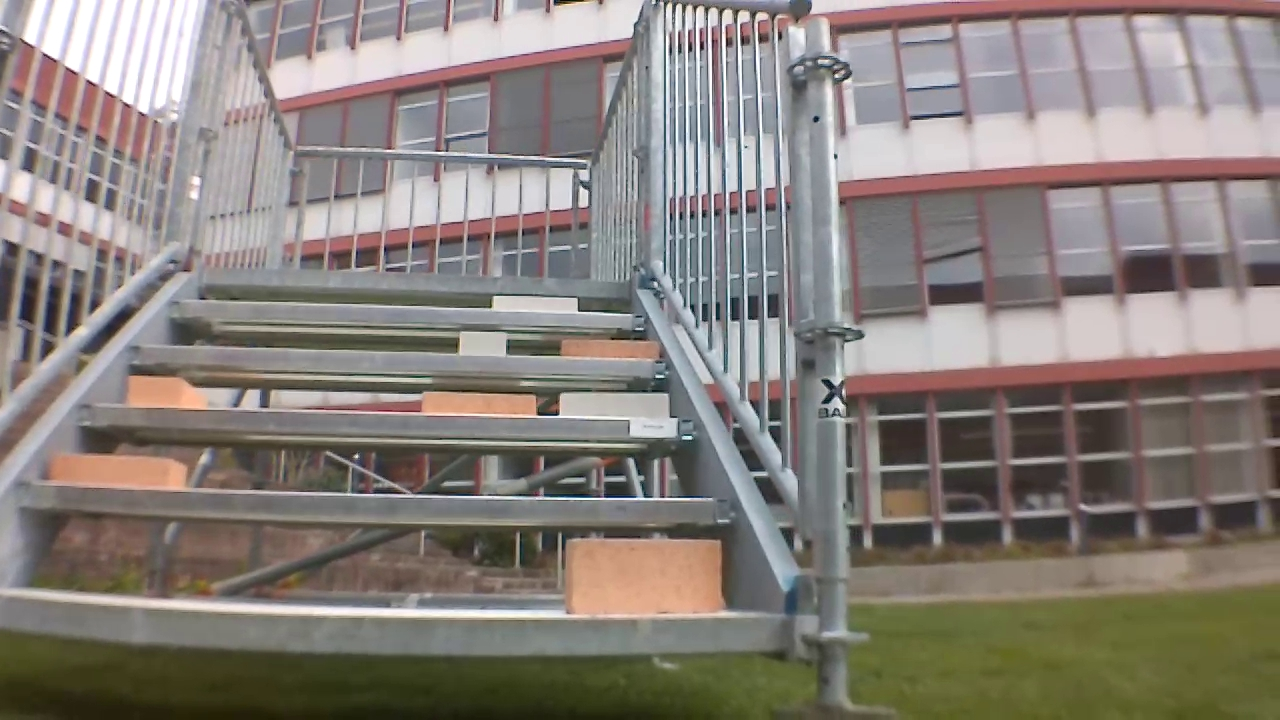brick: (554, 534, 731, 617), (45, 457, 190, 482), (410, 392, 539, 417), (554, 395, 671, 417), (557, 339, 669, 358), (486, 298, 580, 313), (456, 330, 506, 355), (132, 380, 193, 399)
edge: (0, 586, 800, 658), (81, 403, 702, 442), (129, 343, 675, 382), (7, 489, 743, 514), (200, 264, 625, 303), (171, 302, 651, 319)
stairs: (0, 0, 835, 708)
steps: (0, 275, 831, 673)
